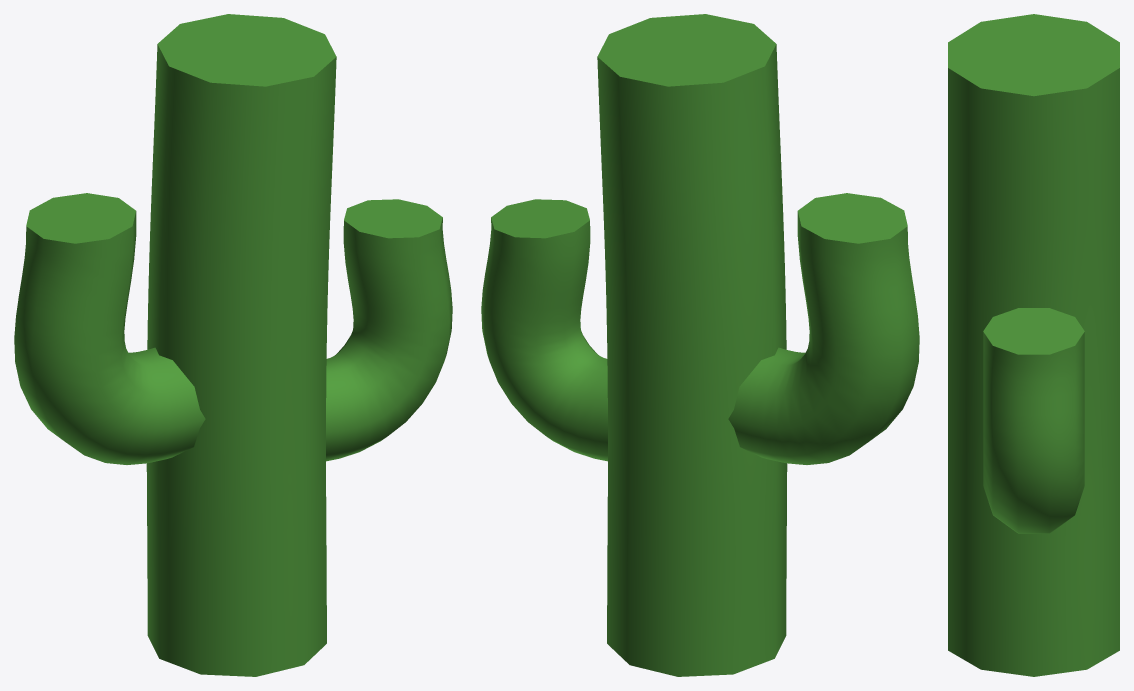
File: cactus.glb
The picture shows the model from 3 angles, left to right: view 1: azimuth 30°, elevation 25°; view 2: azimuth 150°, elevation 25°; view 3: azimuth 270°, elevation 25°; orthographic projection.
Visible parts, largest first — view 1: Cactus; view 2: Cactus; view 3: Cactus.
Boxes of the visible parts, x1,y1,x2,y2 form: Cactus: [14, 14, 452, 676]; Cactus: [481, 14, 919, 676]; Cactus: [948, 14, 1119, 676].
Bounding box in the file's own units: 0.865 × 1.16 × 0.3043.
